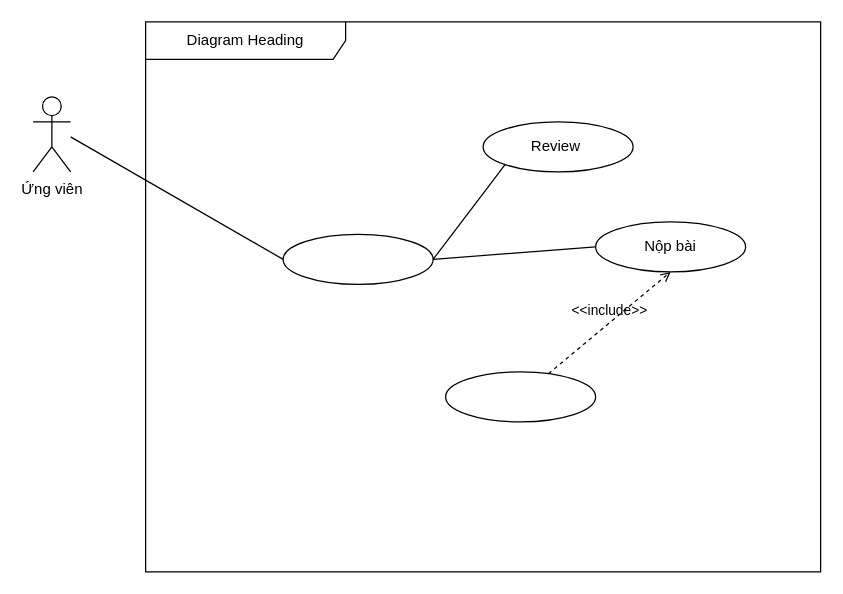
Image size: 843x594. Some labels were removed from this diagram. The shapes that lost their labels are listed below. From the top down, each one's centre as x and y in pixels, then its label:
At (357,258): "Làm quiz".
At (520,396): "Xem ket qua".
